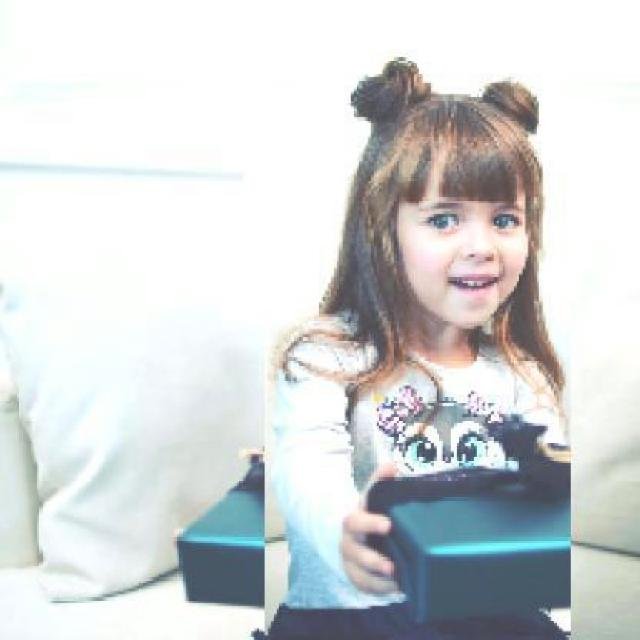child: (263, 52, 571, 637)
